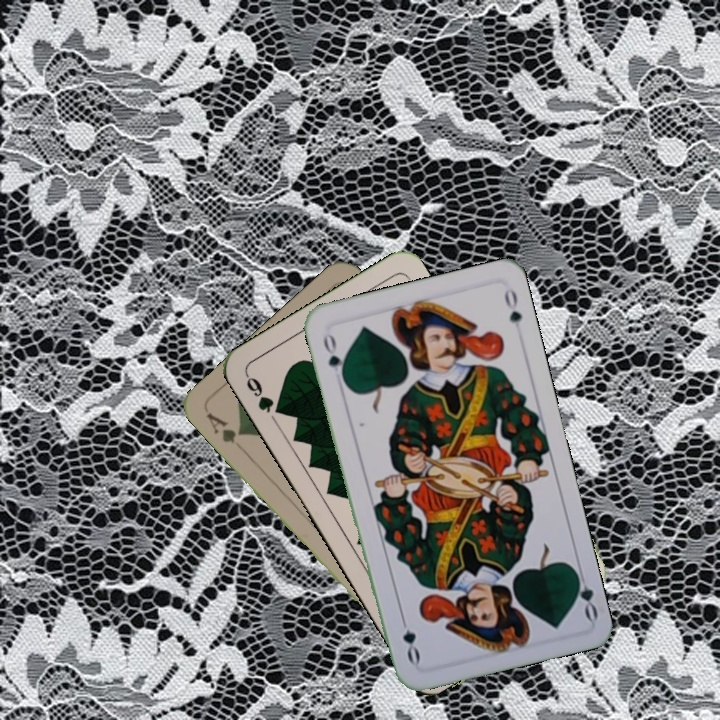G9: (241, 370, 287, 418)
GA: (202, 408, 246, 446)
GO: (570, 563, 601, 623), (319, 327, 348, 385)
